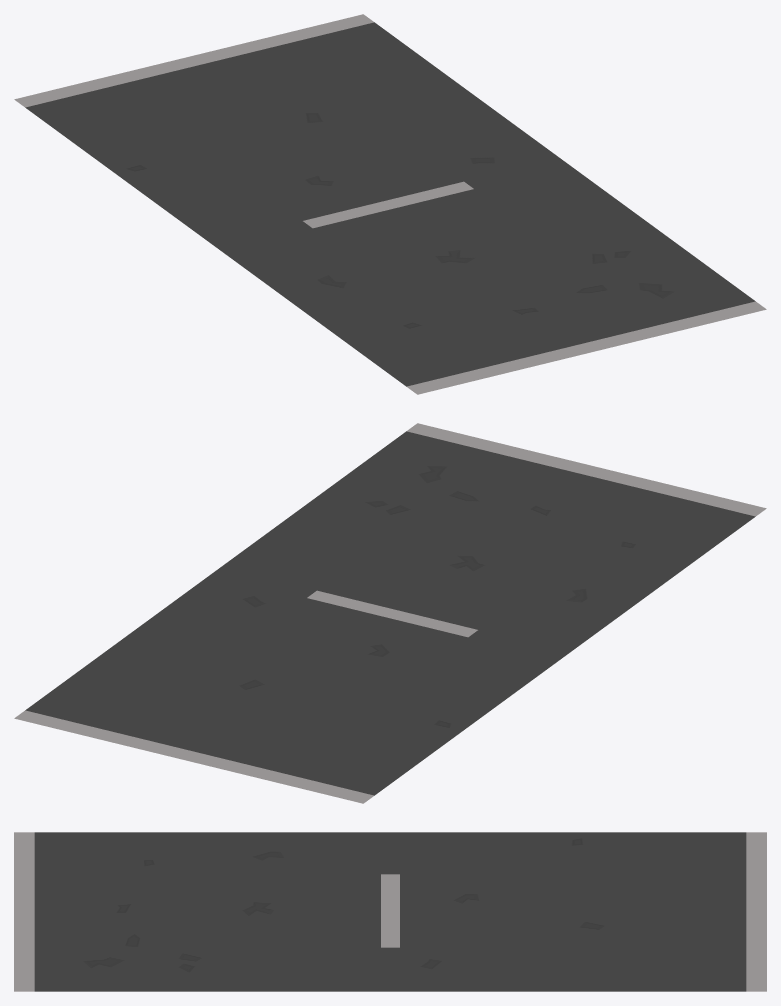
The model's file is SM_Gen_Env_Road_Half_01.fbx.
The picture shows the model from 3 angles, top to bottom: view 1: azimuth 30°, elevation 25°; view 2: azimuth 150°, elevation 25°; view 3: azimuth 270°, elevation 25°; orthographic projection. The views are drawn at different scales.
Visible parts, largest first — view 1: SM_Gen_Env_Road_Half_01; view 2: SM_Gen_Env_Road_Half_01; view 3: SM_Gen_Env_Road_Half_01.
Part boxes in pixels (bbox=[...]): SM_Gen_Env_Road_Half_01: bbox=[14, 14, 766, 394]; SM_Gen_Env_Road_Half_01: bbox=[14, 423, 766, 803]; SM_Gen_Env_Road_Half_01: bbox=[14, 832, 766, 991].
Size of the model in its own units: 500 by 1.06e-17 by 1000.
